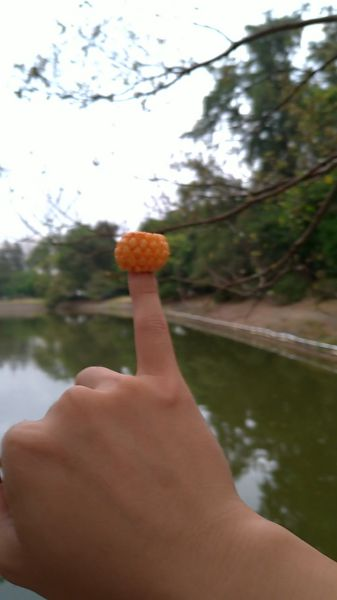eggs: (113, 231, 170, 272)
